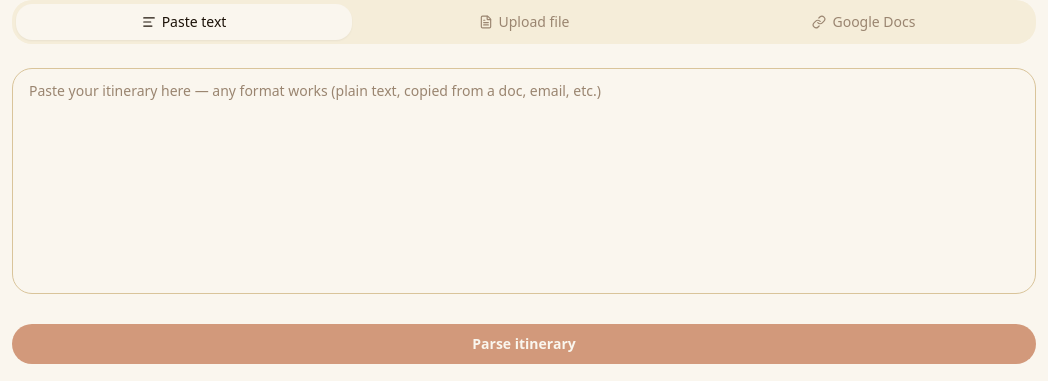
Test: UploadForm › shows the URL input when 'Google Docs' tab is clicked
This screenshot has width=1048, height=381.
Click the tab "Google Docs" at (864, 22), box [696,4,1032,40]
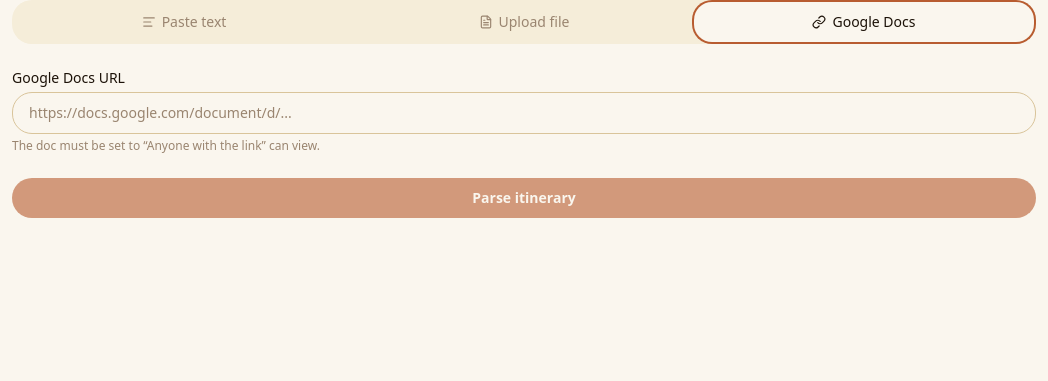
Expected: the field labelled "Google Docs URL" is shown, [12,92,1036,134]
